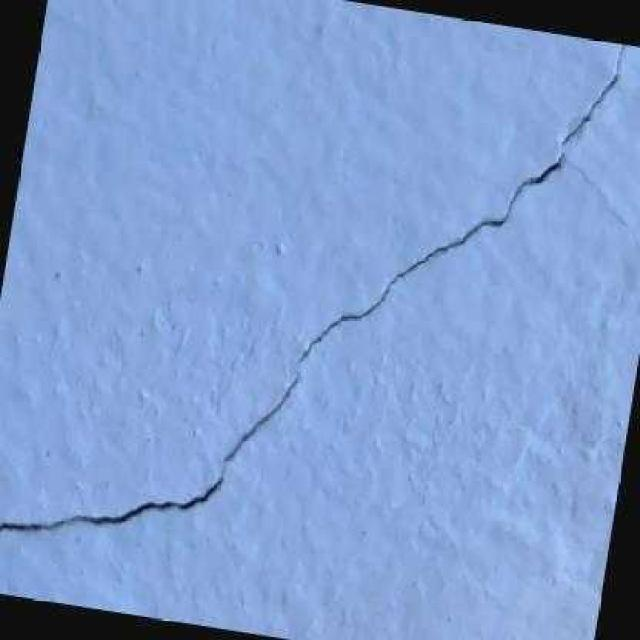D00: (0, 44, 626, 533)
